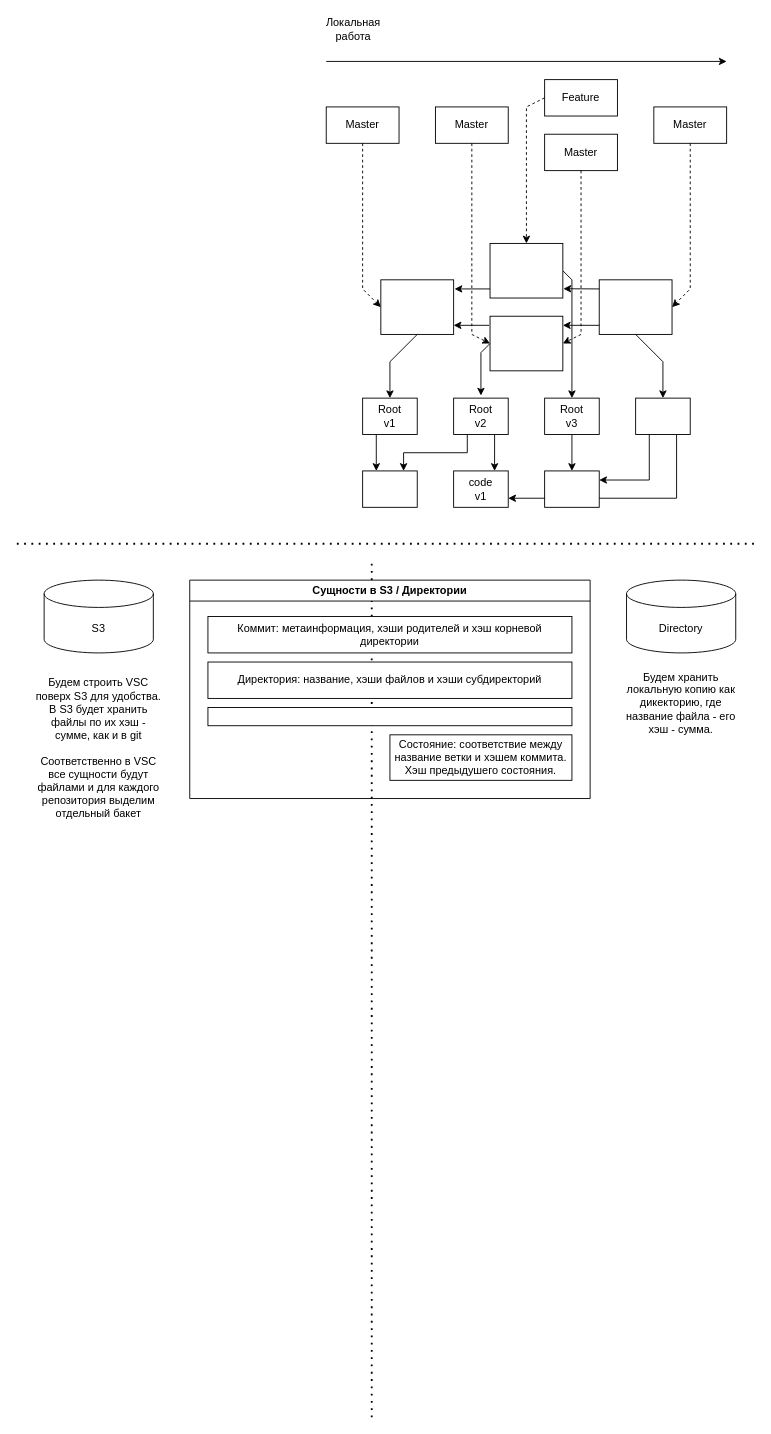
Image size: 771x1434. Some labels were removed from this diagram. Each missing label, with the centre of its shape:
"Feature1" belongs at [526,343].
"Feature2" belongs at [526,270].
"Initial" belongs at [417,306].
"Merge" belongs at [635,306].
"readme v1" belongs at [389,488].
"readme v2" belongs at [571,488].
"Root v4" belongs at [662,416].
"Файлы: содержимое файла" belongs at [389,716].
